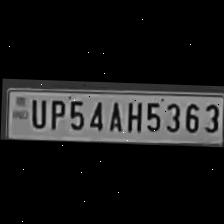3: (200, 98, 220, 132), (162, 97, 180, 132)
4: (84, 96, 106, 131)
5: (64, 95, 84, 130), (141, 97, 161, 132)
6: (180, 98, 200, 132)
A: (103, 96, 123, 132)
H: (122, 97, 142, 132)
P: (44, 94, 64, 130)
U: (25, 94, 45, 128)
